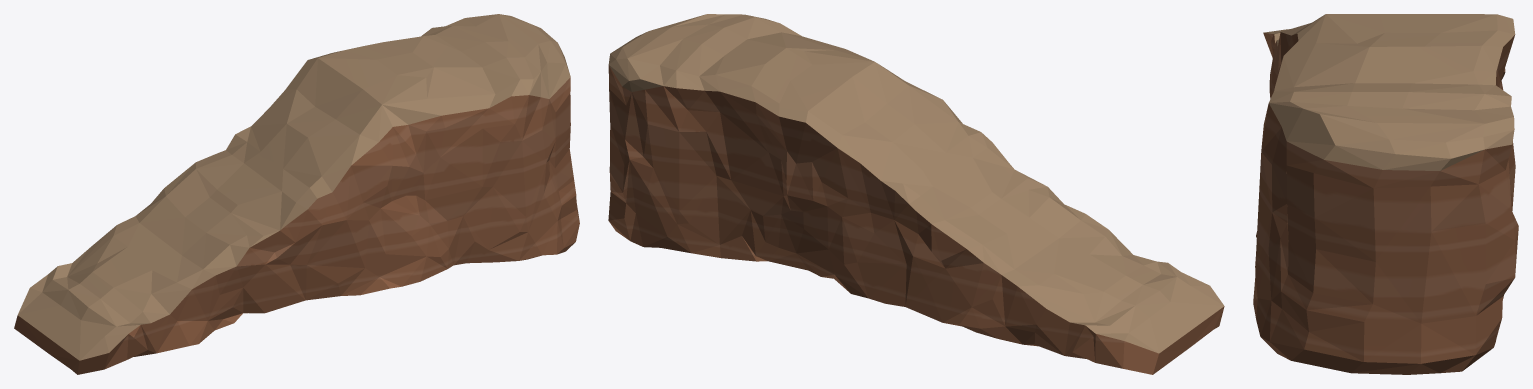
The model's file is SM_Env_Quarry_Wall_Ramp_01.glb.
3 renders of one model, left to right at view 1: azimuth 30°, elevation 25°; view 2: azimuth 150°, elevation 25°; view 3: azimuth 270°, elevation 25°, orthographic. The views are drawn at different scales.
Visible parts, largest first — view 1: SM_Env_Quarry_Wall_Ramp_01; view 2: SM_Env_Quarry_Wall_Ramp_01; view 3: SM_Env_Quarry_Wall_Ramp_01.
Boxes of the visible parts, left/top/right/bottom form: SM_Env_Quarry_Wall_Ramp_01: left=14, top=14, right=579, bottom=374; SM_Env_Quarry_Wall_Ramp_01: left=608, top=14, right=1224, bottom=374; SM_Env_Quarry_Wall_Ramp_01: left=1253, top=14, right=1518, bottom=374.
Bounding box in the file's own units: 13.51 × 4.7 × 4.4.
Materials: 1 (1 with a texture image).
